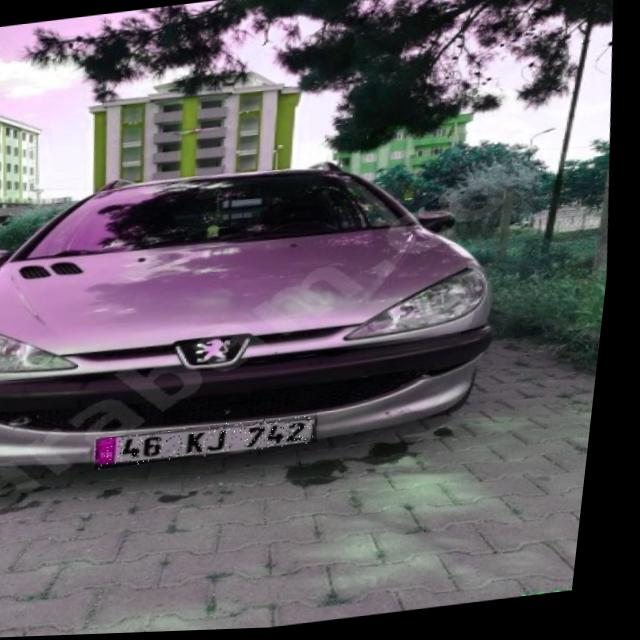license_plate: (102, 414, 330, 470)
